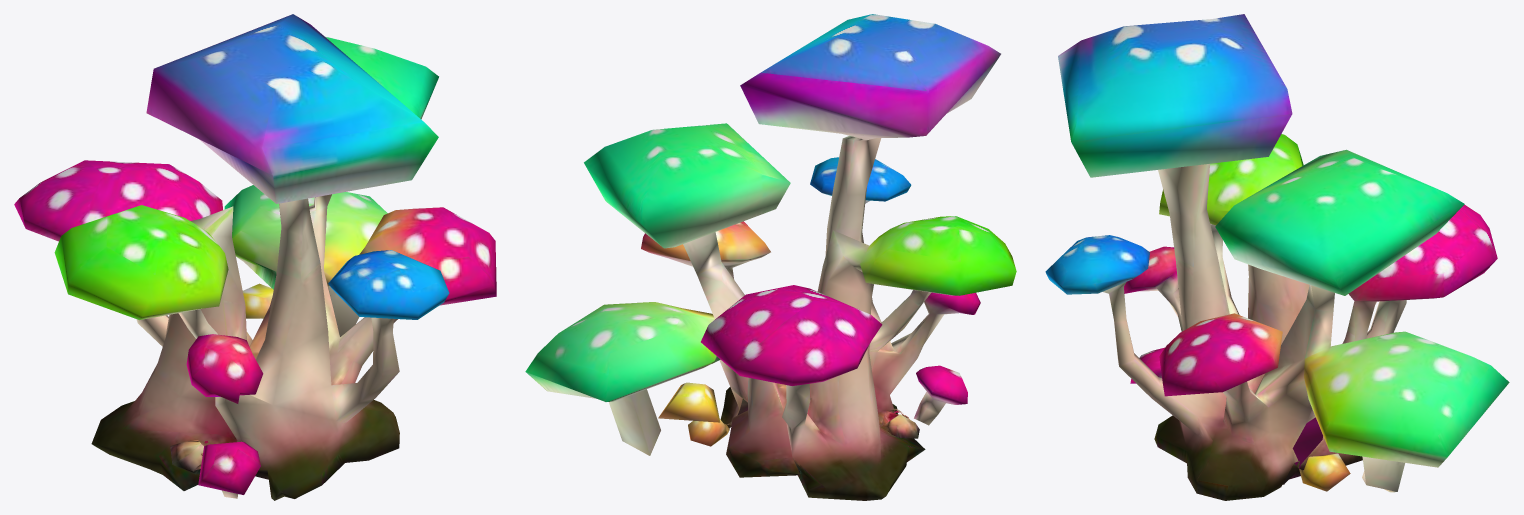
The model's file is p_mush_glow.glb.
The picture shows the model from 3 angles, left to right: view 1: azimuth 30°, elevation 25°; view 2: azimuth 150°, elevation 25°; view 3: azimuth 270°, elevation 25°; orthographic projection. The views are drawn at different scales.
Parts seen in each view (by area): view 1: Mesh_0; view 2: Mesh_0; view 3: Mesh_0.
Part boxes in pixels (bbox=[...]): Mesh_0: bbox=[14, 14, 496, 500]; Mesh_0: bbox=[525, 14, 1016, 500]; Mesh_0: bbox=[1045, 14, 1509, 500].
Bounding box in the file's own units: 0.2042 × 0.2 × 0.2067.
1 material, 1 textured.
